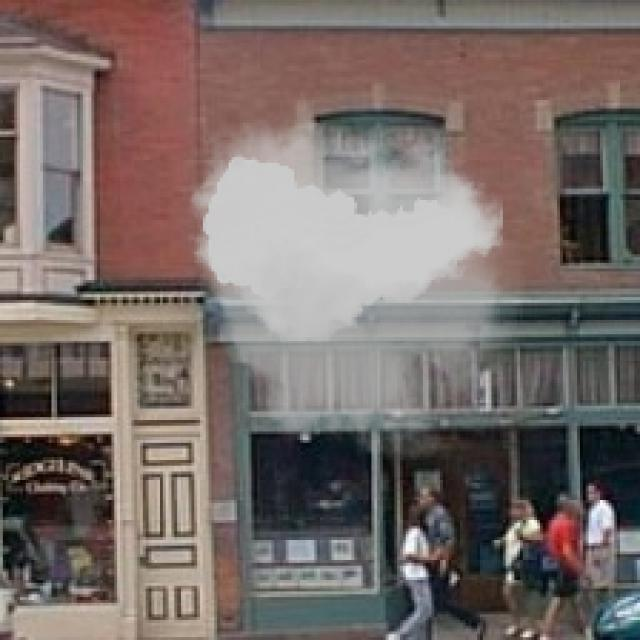Smoke: (180, 91, 526, 480)
